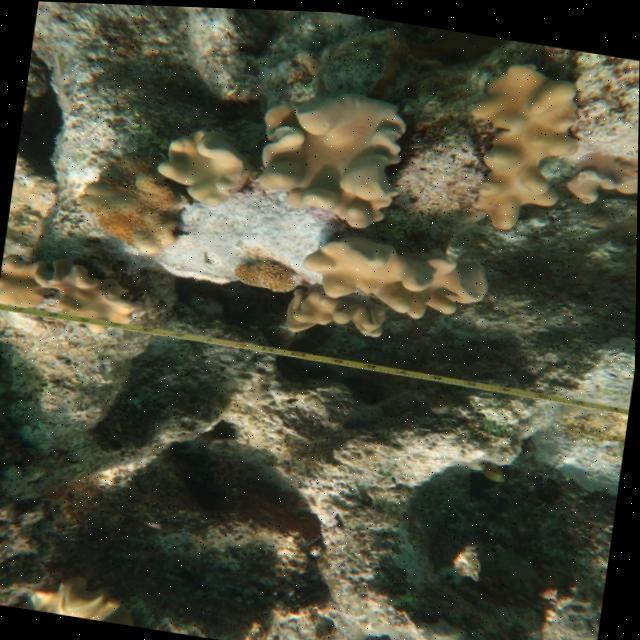Healthy Coral: (252, 55, 418, 234), (445, 46, 580, 238), (294, 224, 495, 330), (63, 144, 196, 258), (0, 244, 144, 334), (150, 118, 254, 210), (274, 282, 392, 350), (564, 142, 638, 210), (224, 244, 300, 292)
